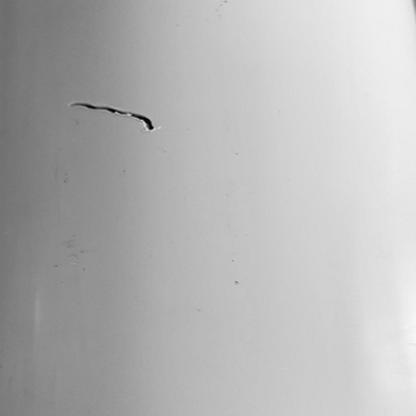fengxi: (69, 101, 151, 132)
